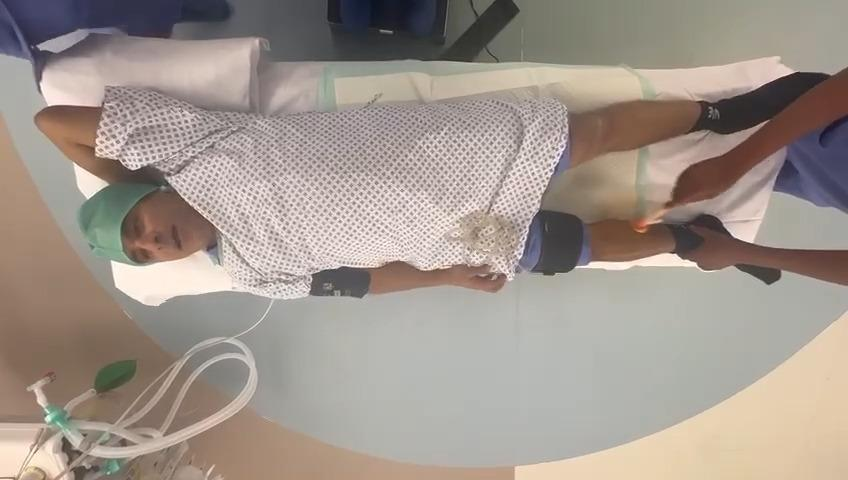patient: (36, 73, 823, 298)
prepstick: (633, 202, 676, 231)
tourniquet: (533, 210, 585, 274)
